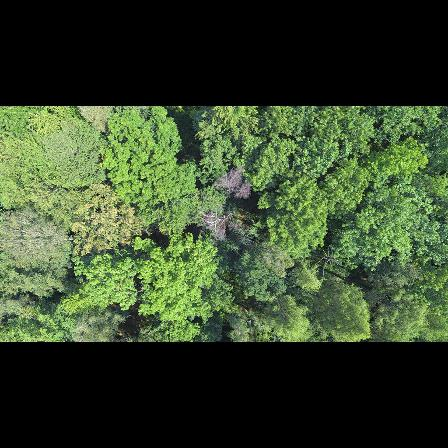Dead: (197, 210, 255, 242), (212, 172, 253, 203)
